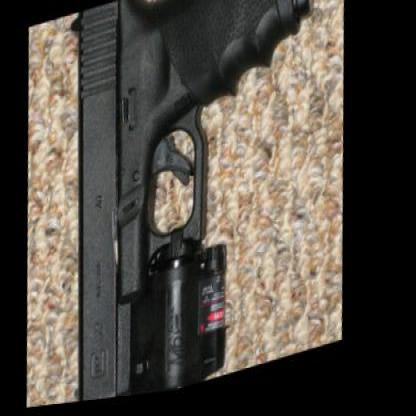pistol: (35, 0, 356, 408)
